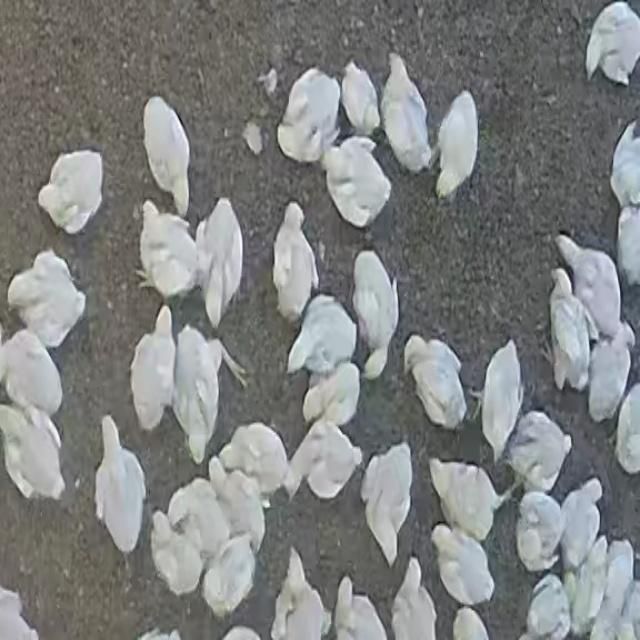chicken: (8, 250, 86, 349), (134, 95, 196, 217), (557, 236, 626, 342), (95, 417, 146, 554), (137, 199, 202, 303), (0, 401, 67, 501), (427, 458, 504, 544), (547, 271, 599, 394), (286, 416, 362, 500), (360, 445, 414, 563), (174, 322, 220, 460), (277, 68, 342, 165), (381, 53, 433, 172), (324, 136, 391, 228), (403, 334, 468, 428), (216, 423, 292, 503), (0, 329, 64, 423), (206, 460, 269, 554), (287, 296, 356, 380), (131, 307, 177, 433), (200, 198, 244, 329), (167, 478, 234, 564), (34, 149, 104, 231), (352, 251, 399, 372), (150, 508, 211, 599), (272, 203, 318, 322), (506, 412, 570, 497), (432, 523, 497, 606), (481, 339, 524, 462), (271, 547, 325, 640), (434, 89, 479, 198), (202, 532, 258, 619), (585, 327, 634, 425), (585, 1, 640, 83), (568, 536, 613, 636), (555, 480, 603, 572), (300, 361, 362, 431), (514, 490, 566, 573), (390, 559, 439, 640), (519, 573, 570, 639), (341, 59, 380, 138)
